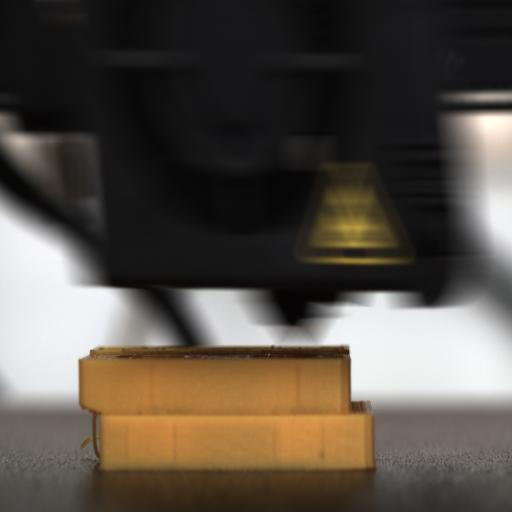layer_shift: (76, 402, 374, 426)
